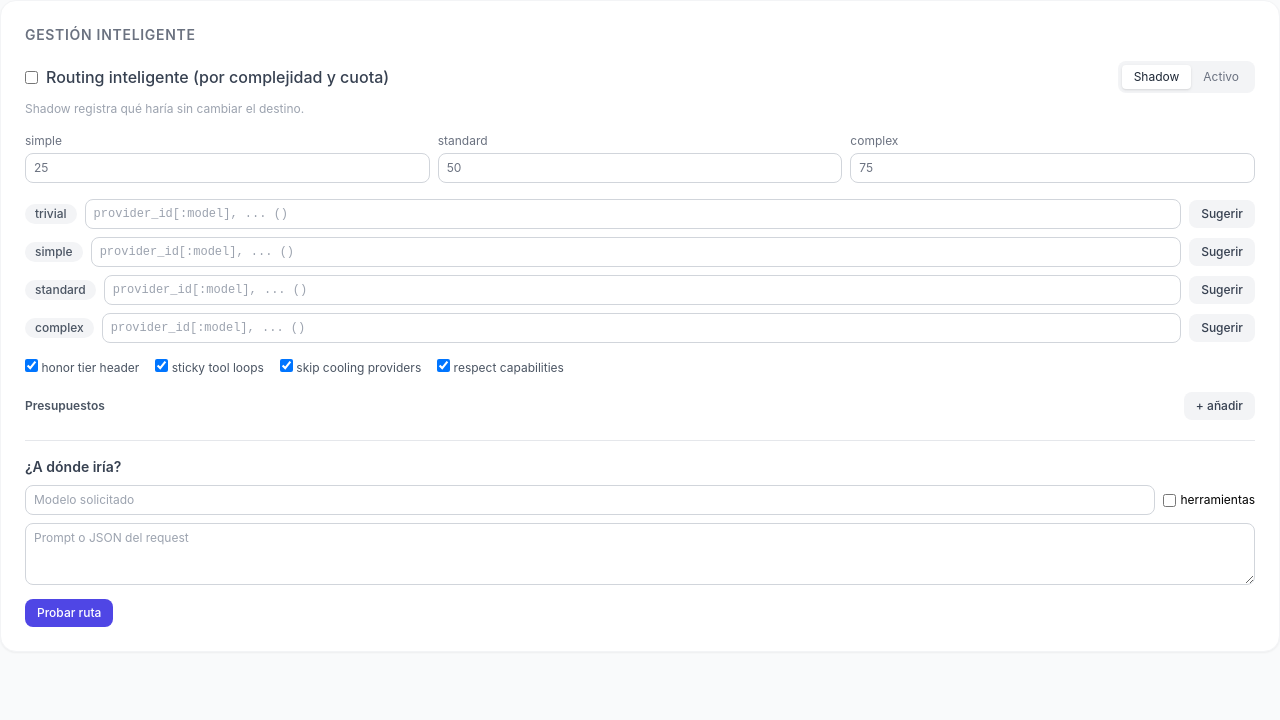
Test: SmartRoutingPanel › marks the form dirty when mode changes
What coordinates should you click on to do the following:
click the button "Activo"
I would click on:
 (1221, 77)
Its box is [1191,65,1251,89].
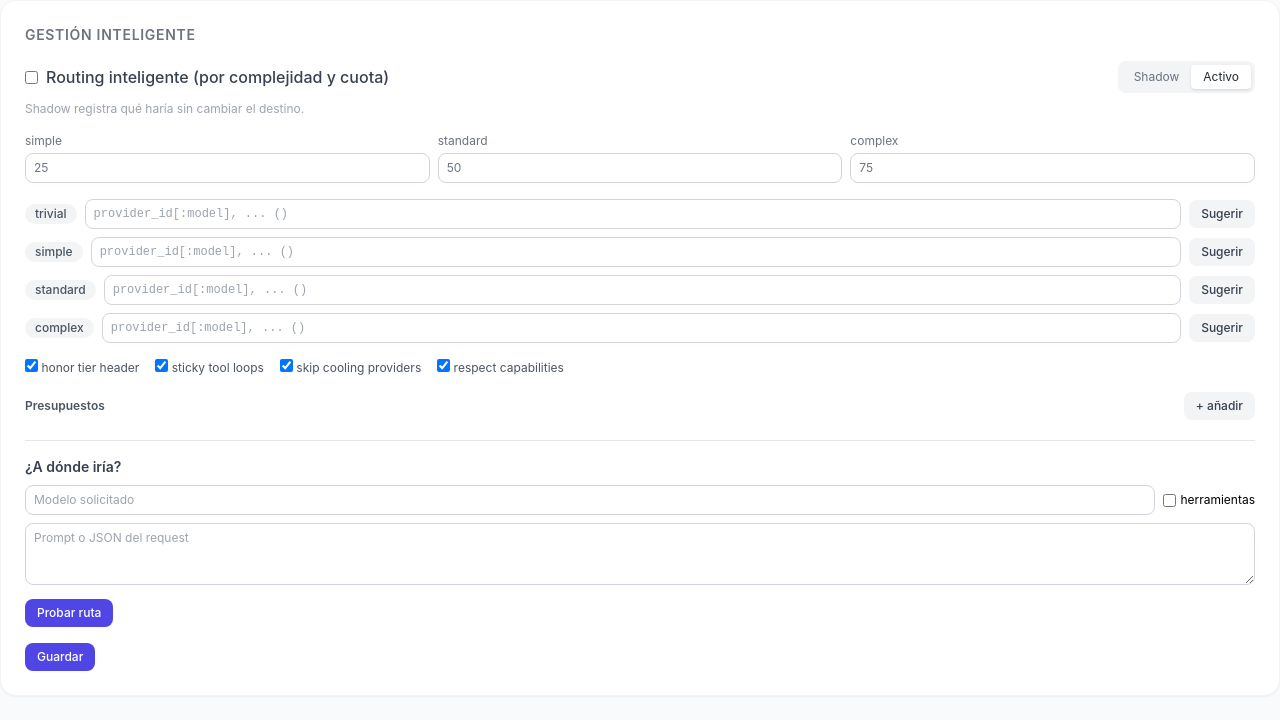
Check: the button "Guardar" is shown, box [25,643,95,671]
